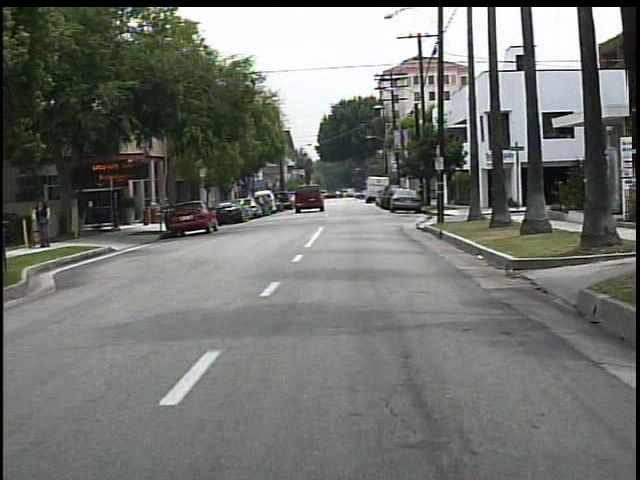person: (34, 196, 59, 250)
